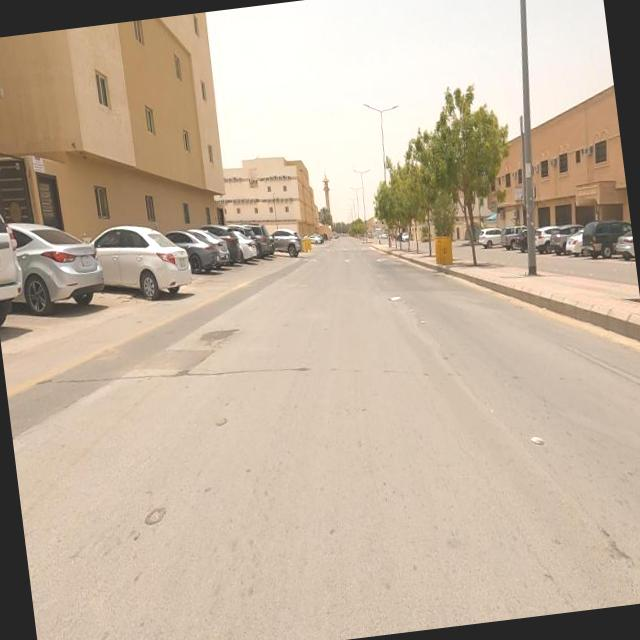debris: (362, 263, 424, 340)
